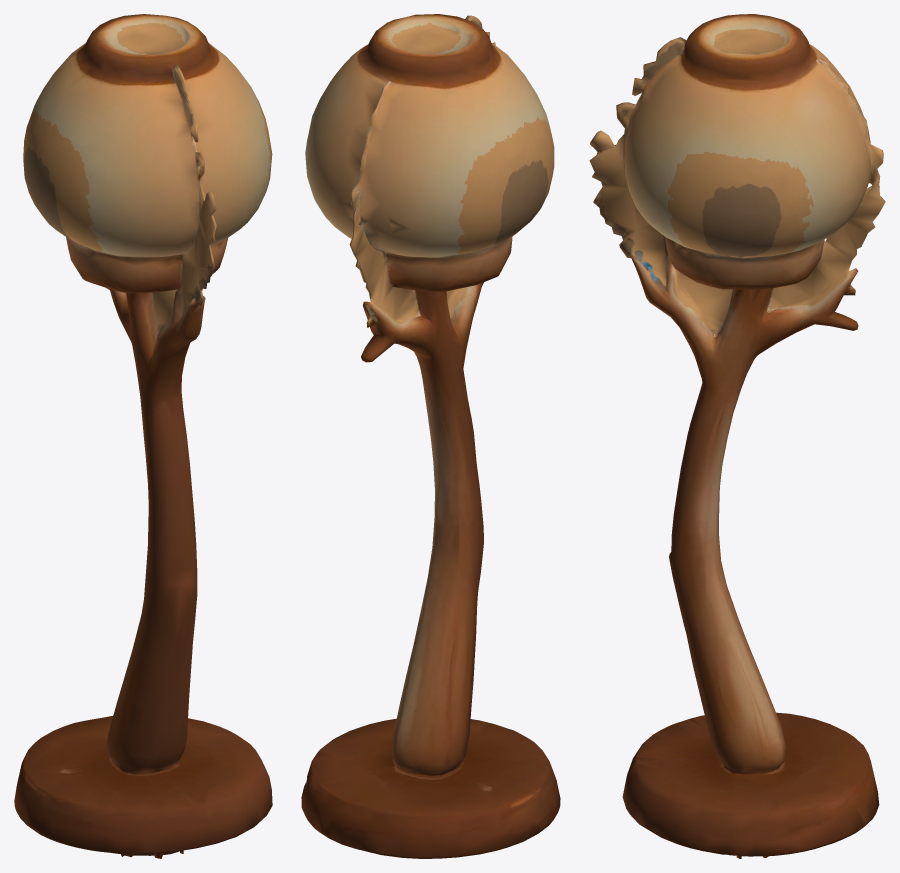
Rendered from lampe_wald_a.glb.
3 renders of one model, left to right at view 1: azimuth 30°, elevation 25°; view 2: azimuth 150°, elevation 25°; view 3: azimuth 270°, elevation 25°, orthographic.
Visible parts, largest first — view 1: tripo_node_dde39f5e-6040-4c90-9804-d5de2cc16f6f; view 2: tripo_node_dde39f5e-6040-4c90-9804-d5de2cc16f6f; view 3: tripo_node_dde39f5e-6040-4c90-9804-d5de2cc16f6f.
Boxes of the visible parts, box(x1,y1,x2,y2) form: tripo_node_dde39f5e-6040-4c90-9804-d5de2cc16f6f: box(14, 14, 272, 858); tripo_node_dde39f5e-6040-4c90-9804-d5de2cc16f6f: box(301, 14, 560, 858); tripo_node_dde39f5e-6040-4c90-9804-d5de2cc16f6f: box(589, 14, 885, 858).
Size of the model in its own units: 0.3537 by 1.2 by 0.4033.
Materials: 1 (1 with a texture image).
